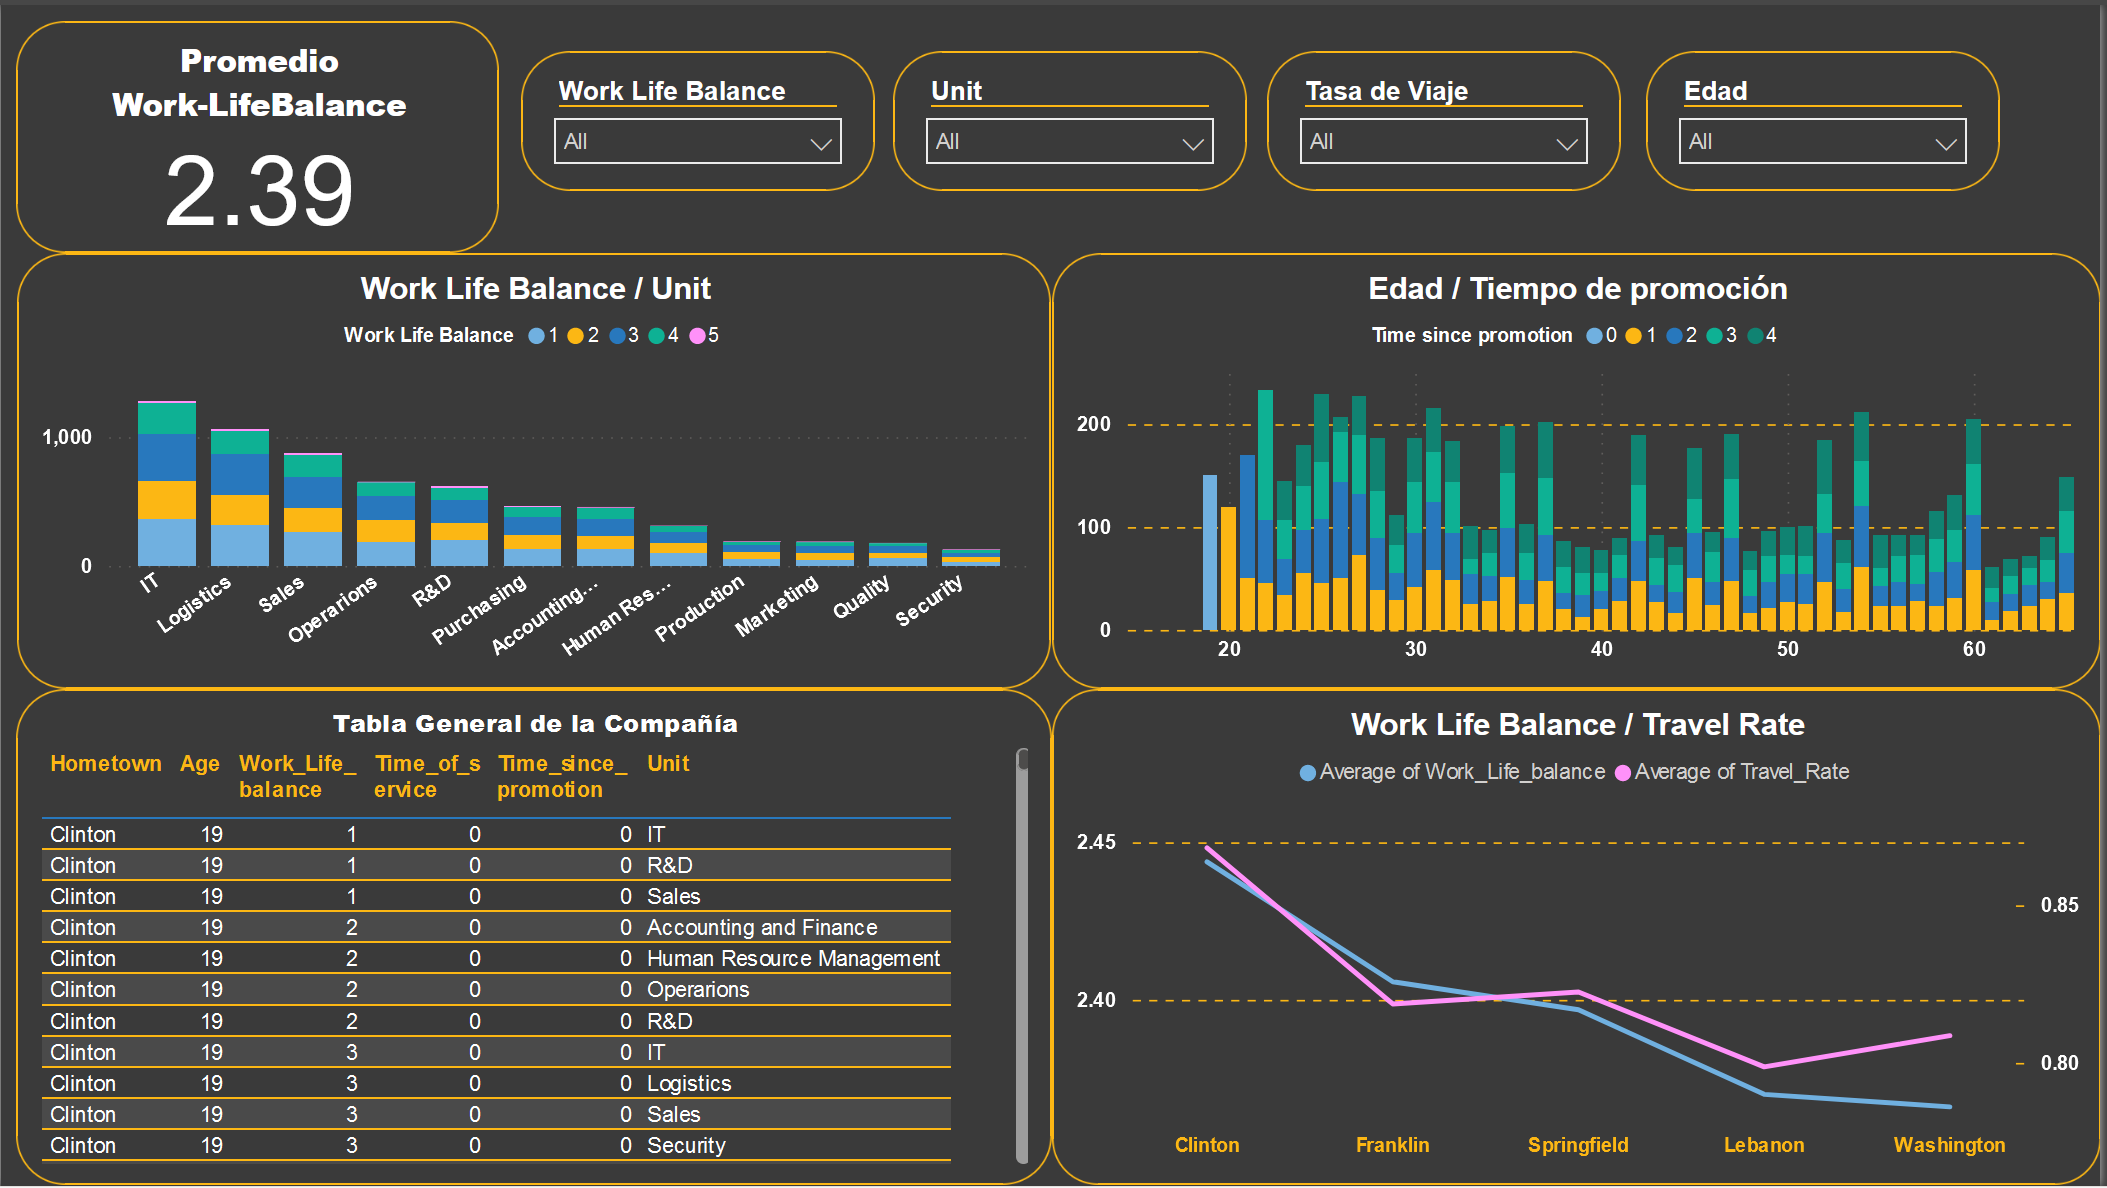

The dashboard page shown, as its layout file describes it:
{"tool":"powerbi","page":{"name":"Página 1","canvas":[1280,720],"ordinal":0},"visuals":[{"type":"card","title":"Promedio Work-LifeBalance","fields":{"Values":["Avg(Employees.Work_Life_balance)"]},"box":[8.9,10,294.7,141.2],"z":0},{"type":"columnChart","title":"Edad / Tiempo de promoción","fields":{"Category":["Employees.Age"],"Y":["CountNonNull(Employees.Employee_ID)"],"Series":["Employees.Time_since_promotion"]},"box":[640.6,151.2,639.4,265.8],"z":1000},{"type":"columnChart","title":"Work Life Balance / Unit","fields":{"Category":["Employees.Unit"],"Y":["CountNonNull(Employees.Employee_ID)"],"Series":["Employees.Work_Life_balance"]},"box":[10,151.2,630.5,265.8],"z":2000},{"type":"tableEx","title":"Tabla General de la Compañía","fields":{"Values":["Employees.Hometown","Employees.Age","Employees.Work_Life_balance","Employees.Time_of_service","Employees.Time_since_promotion","Employees.Unit"]},"box":[8.9,417,631.7,302.5],"z":3000},{"type":"lineChart","title":"Work Life Balance / Travel Rate","fields":{"Category":["Employees.Hometown"],"Y":["Avg(Employees.Work_Life_balance)"],"Y2":["Avg(Employees.Travel_Rate)"]},"box":[640.6,417,639.4,302.5],"z":4000},{"type":"slicer","fields":{"Values":["Employees.Work_Life_balance"]},"box":[316.9,27.8,215.7,85.6],"z":5000},{"type":"slicer","fields":{"Values":["Employees.Unit"]},"box":[543.8,27.8,215.7,85.6],"z":6000},{"type":"slicer","fields":{"Values":["Employees.Travel_Rate"]},"box":[771.8,27.8,215.7,85.6],"z":7000},{"type":"slicer","fields":{"Values":["Employees.Age"]},"box":[1003.1,27.8,215.7,85.6],"z":8000}]}

Visuals, with their boxes in screenshot pixels (x1, y1, x2, y2), scaled from the page's 1280x720 canvas onto the 2107x1188 screenshot:
"Promedio Work-LifeBalance" card: 15:16:500:249
"Edad / Tiempo de promoción" columnChart: 1054:249:2106:688
"Work Life Balance / Unit" columnChart: 16:249:1054:688
"Tabla General de la Compañía" tableEx: 15:688:1054:1187
"Work Life Balance / Travel Rate" lineChart: 1054:688:2106:1187
slicer - Employees.Work_Life_balance: 522:46:877:187
slicer - Employees.Unit: 895:46:1250:187
slicer - Employees.Travel_Rate: 1270:46:1626:187
slicer - Employees.Age: 1651:46:2006:187
